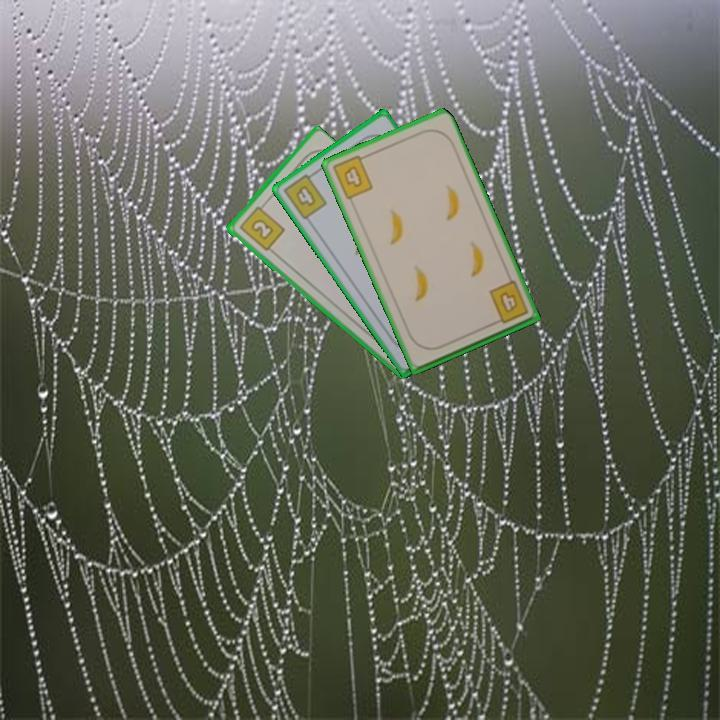2b: (235, 199, 287, 254)
4b: (279, 168, 330, 222), (328, 151, 376, 202), (485, 277, 531, 328)
